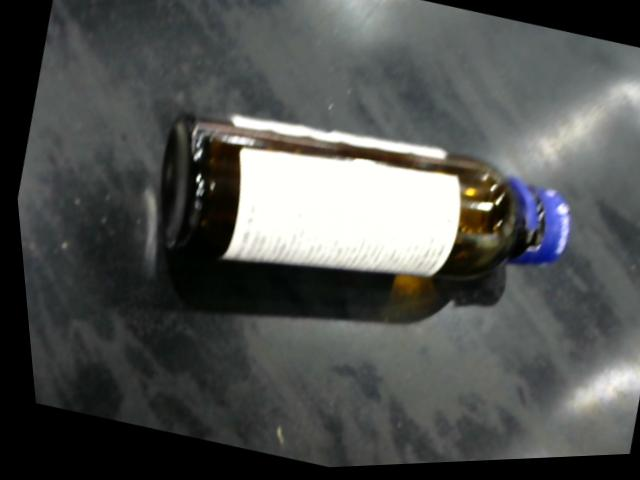glass: (152, 114, 569, 286)
